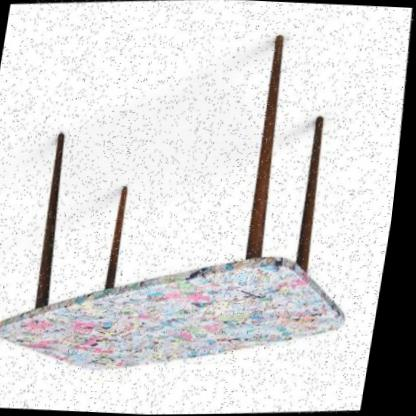Table: (0, 6, 410, 414)
